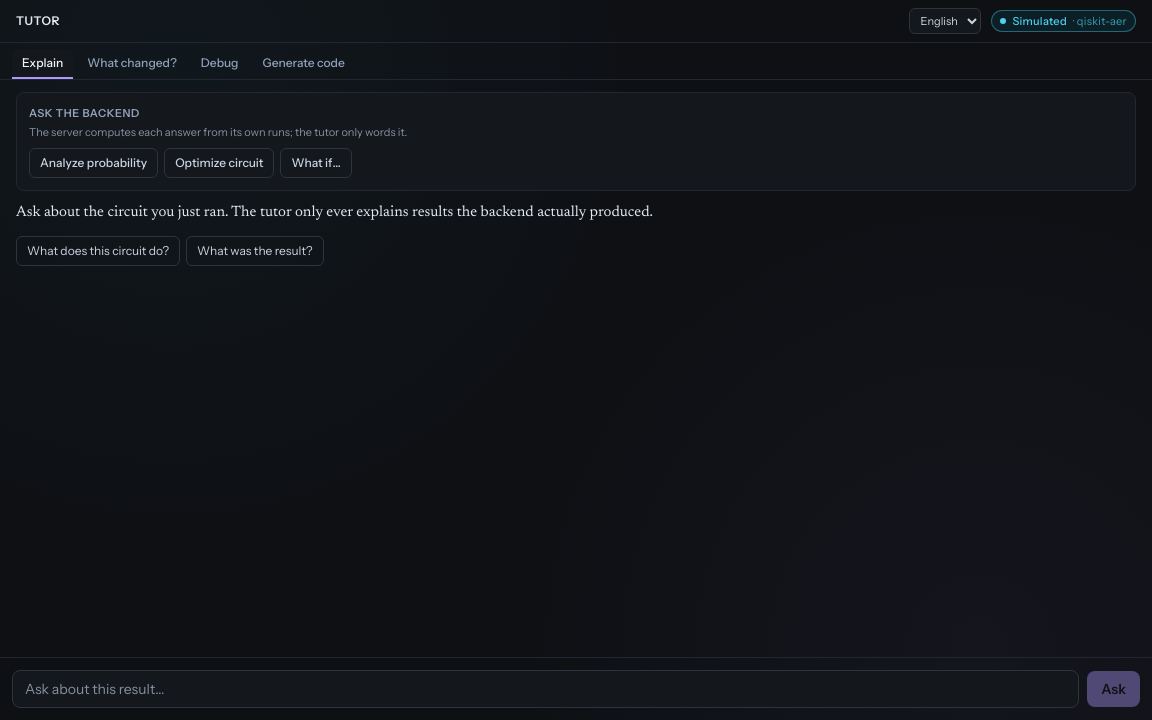
Test: TutorPanel › shows an explicit error bubble and no fabricated answer on an API/network failure
Type "What was the result?" into the field with placeholder "Ask about this result…".
click(546, 689); type("What was the result?")  # box [12,670,1079,708]
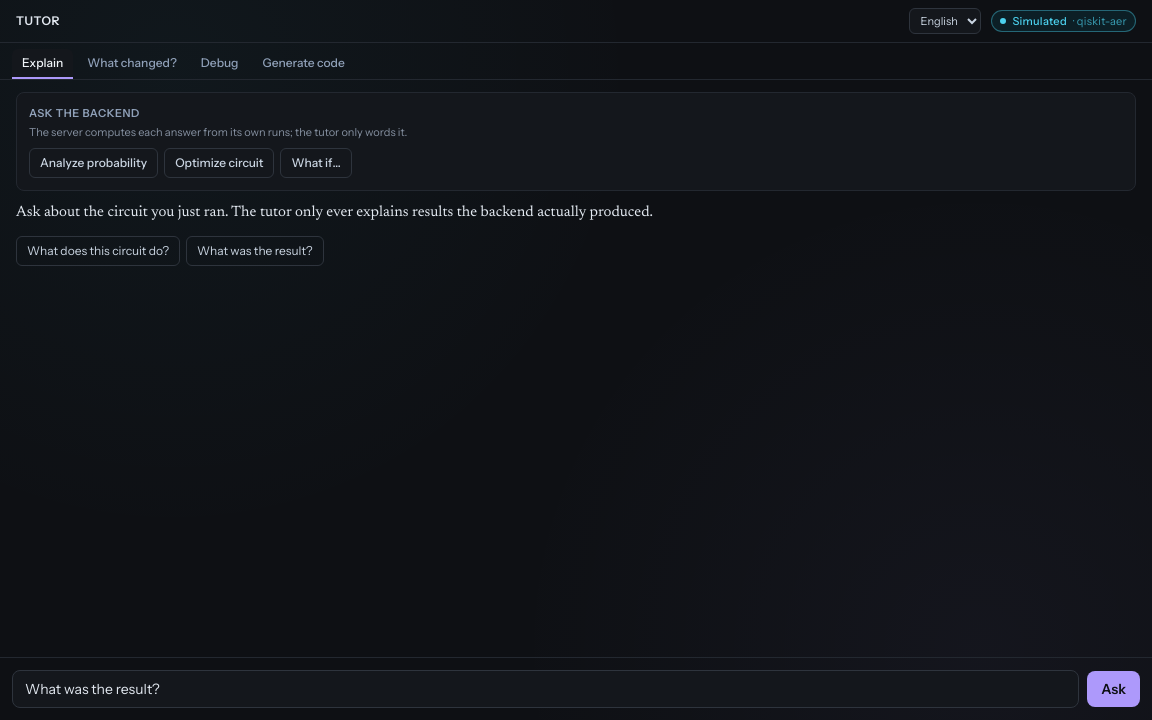
Click the button "Ask".
click(1114, 689)  # box [1087,671,1140,707]
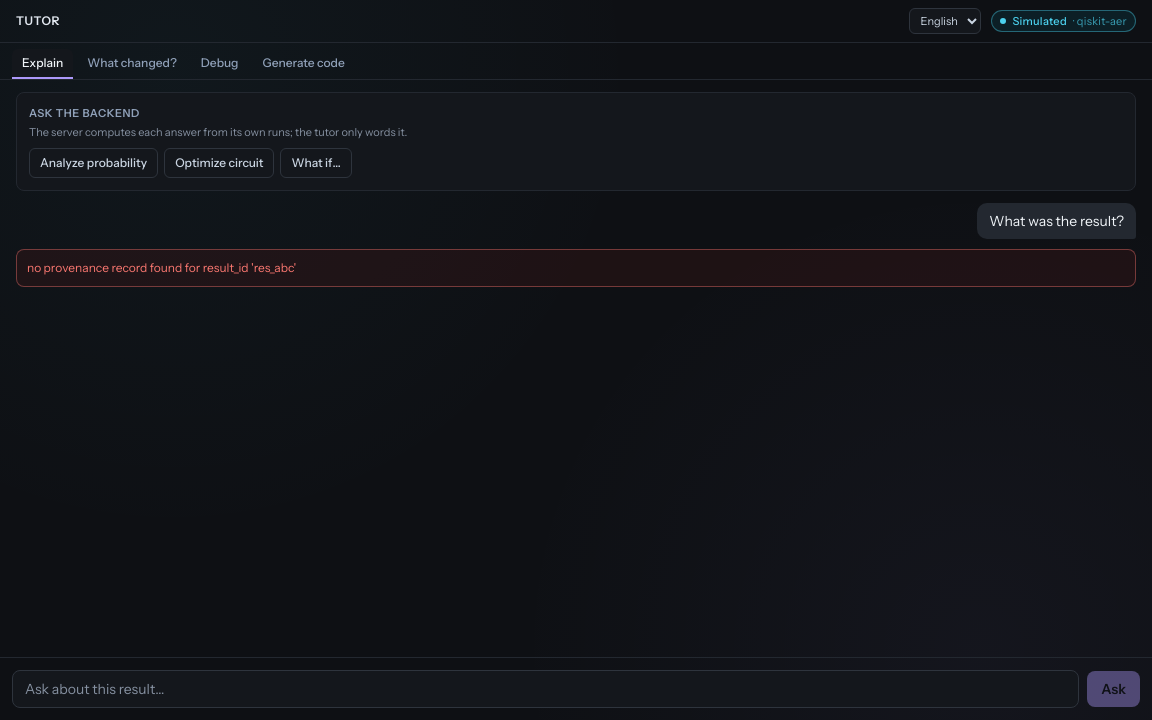
Expected: the text "no provenance record found for result_id 'res_abc'" is shown, [16,249,1136,287]
